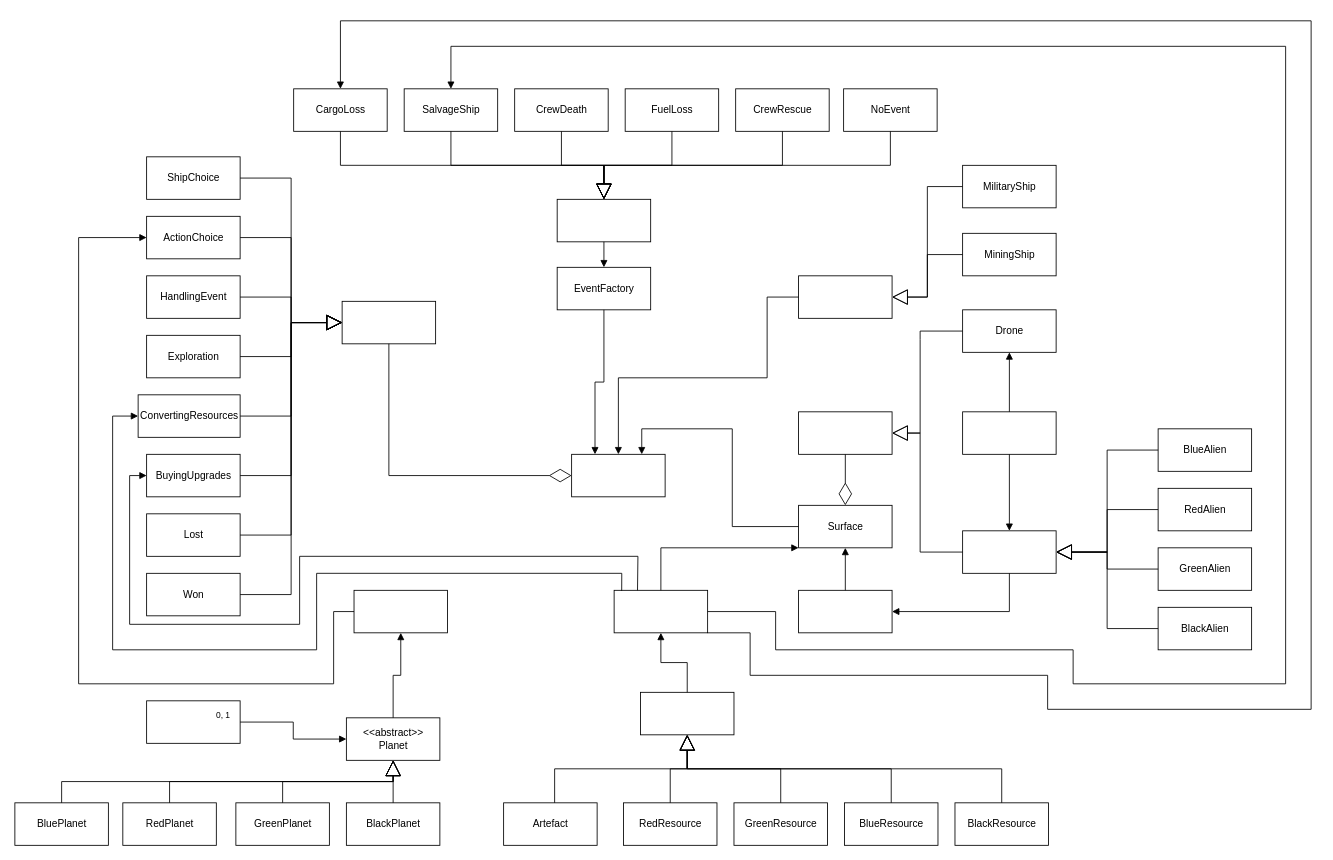
Image size: 1333x860. Some labels were removed from this diagram. Each missing label, with the centre of its shape:
"<<abstract>> Alien" belongs at [1009,551].
"<<abstract>> Event" belongs at [603,220].
"<<abstract>> Ship" belongs at [845,296].
"<<abstract>> SpaceWalker" belongs at [845,432].
"<<abstract>> State" belongs at [388,322].
"<<interface>> Resource" belongs at [687,713].
"AlienFactory" belongs at [845,611].
"Coordinates" belongs at [1009,432].
"PlanetFactory" belongs at [400,611].
"ResourceFactory" belongs at [660,611].
"Singleton" belongs at [618,475].
"Station" belongs at [193,721].
